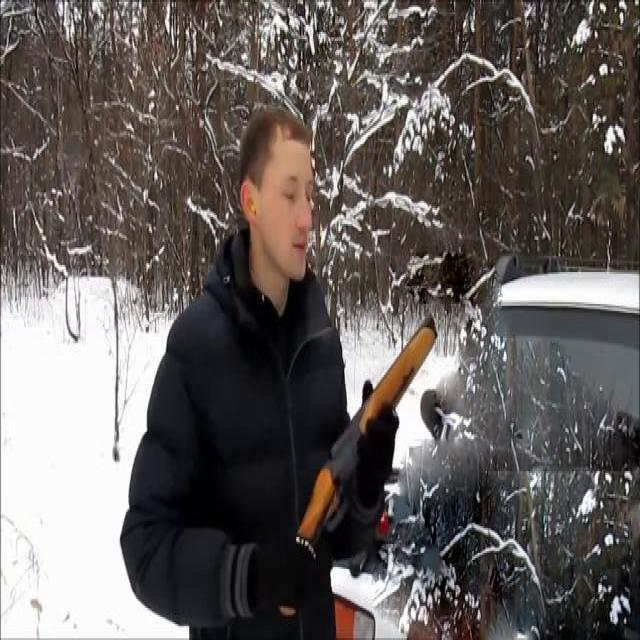pistol: (280, 312, 440, 619)
